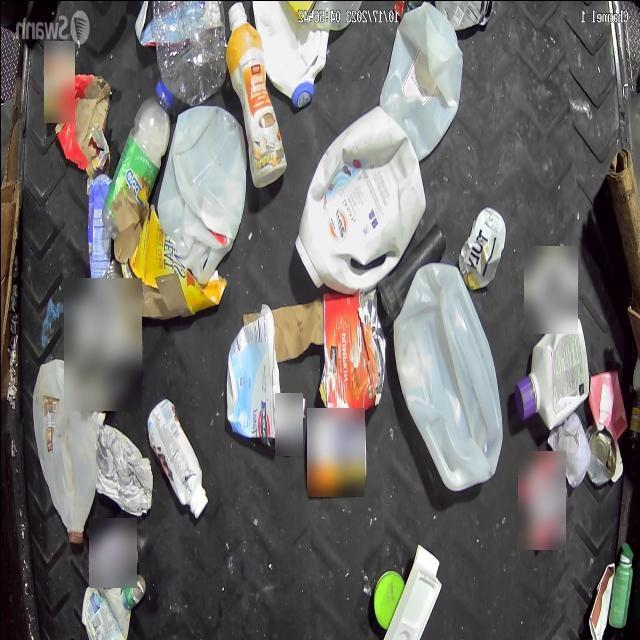milk_jug: (390, 261, 500, 494), (379, 1, 461, 159), (161, 105, 245, 257), (32, 358, 96, 544), (252, 2, 328, 105)
plastic_bottle: (101, 81, 173, 238)
